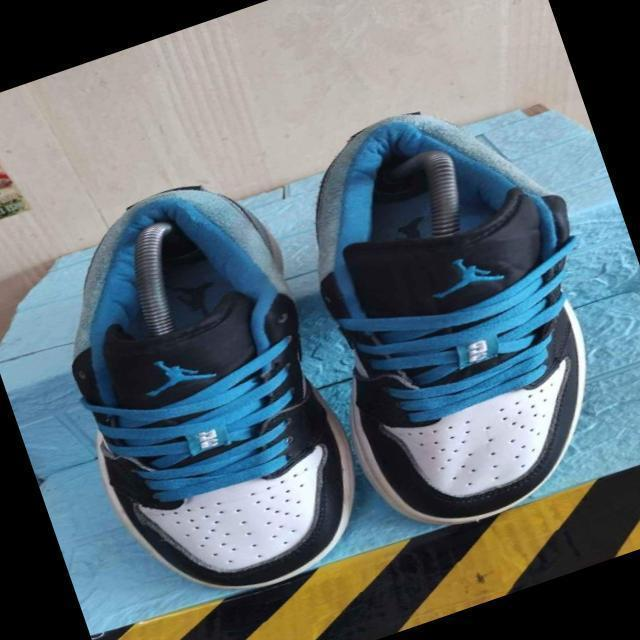nike fake jordan 1: (256, 75, 640, 552), (18, 159, 395, 629)
